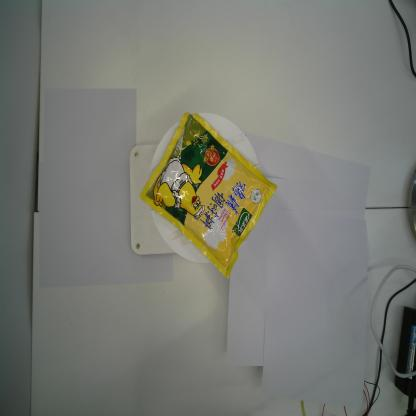Seasoner: (138, 110, 278, 280)
